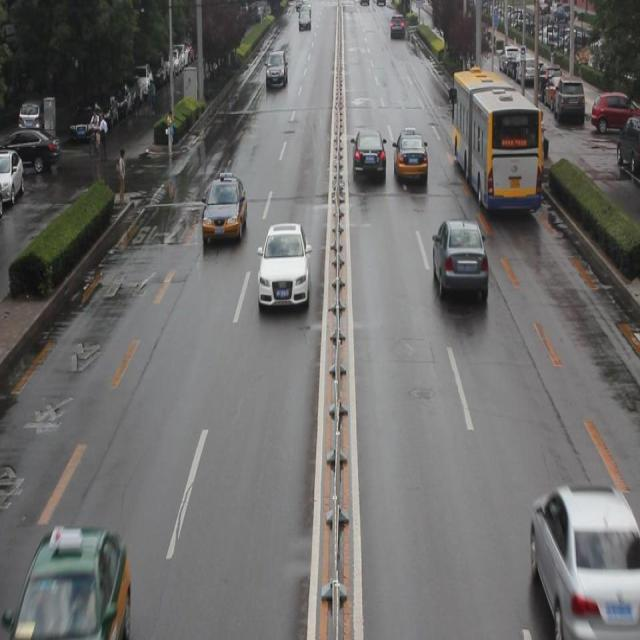car: (526, 476, 640, 640), (15, 530, 134, 632), (431, 221, 486, 309), (257, 222, 308, 311), (203, 173, 245, 242), (351, 126, 387, 181), (393, 132, 426, 188)
van: (451, 68, 542, 214)
